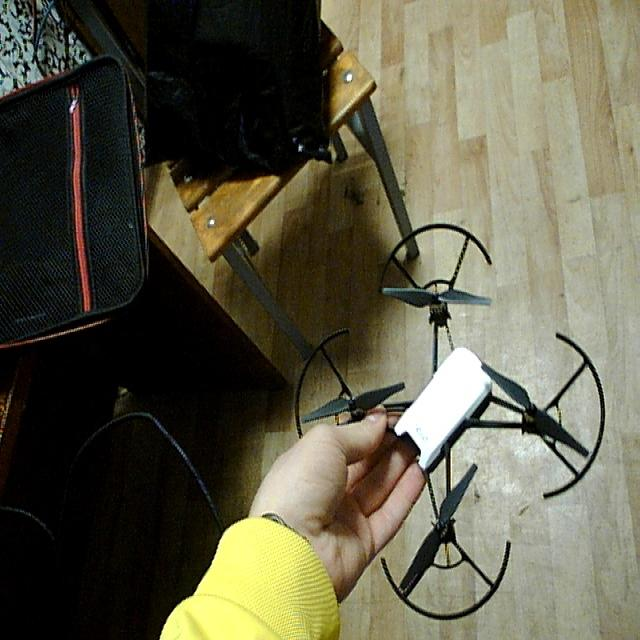drone: (283, 220, 614, 628)
